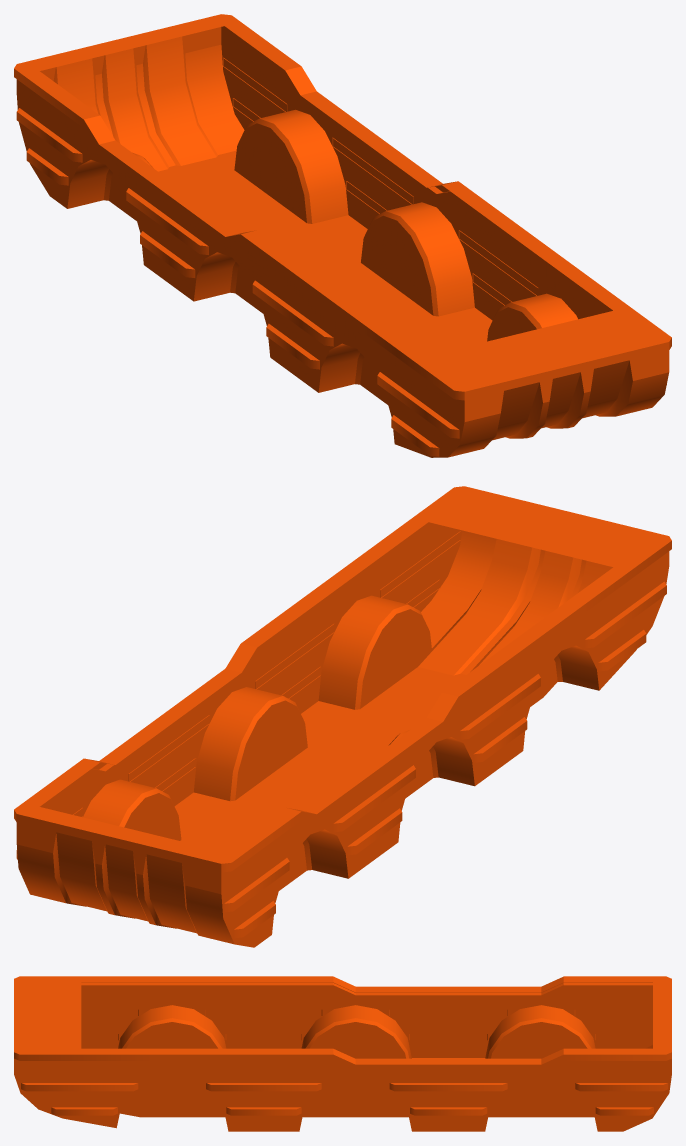
The model's file is chassis.glb.
The picture shows the model from 3 angles, top to bottom: view 1: azimuth 30°, elevation 25°; view 2: azimuth 150°, elevation 25°; view 3: azimuth 270°, elevation 25°; orthographic projection. The views are drawn at different scales.
Visible parts, largest first — view 1: chassis.001; view 2: chassis.001; view 3: chassis.001.
Part boxes in pixels (box(x1,y1,x2,y2)): chassis.001: box(14, 14, 671, 457); chassis.001: box(14, 486, 671, 947); chassis.001: box(14, 976, 671, 1131).
Size of the model in its own units: 3.3 by 1.56 by 11.76.
